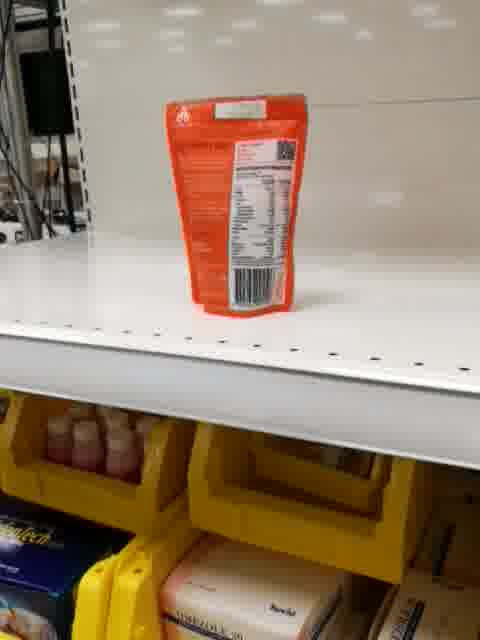whitechia: (163, 93, 314, 321)
